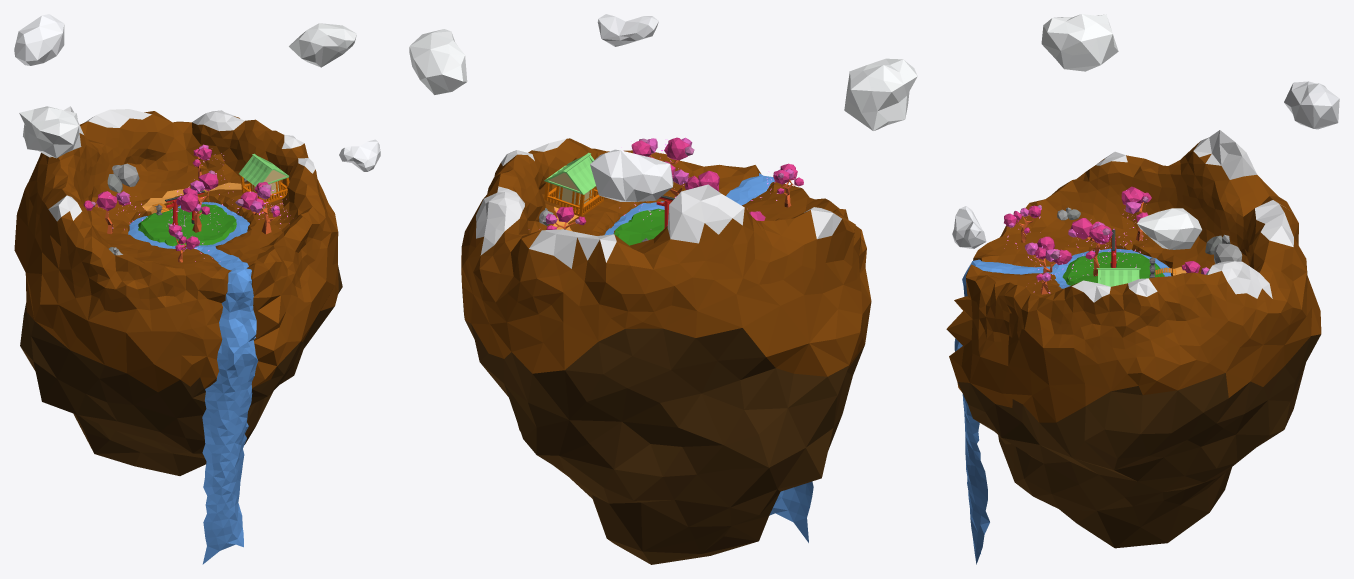
Rendered from island-transformed.glb.
3 views of the same model, side by side, from view 1: azimuth 30°, elevation 25°; view 2: azimuth 150°, elevation 25°; view 3: azimuth 270°, elevation 25° (orthographic). The views are drawn at different scales.
Visible parts, largest first — view 1: Casa_Tejado_0; view 2: Casa_Tejado_0; view 3: Casa_Tejado_0.
Part boxes in pixels (x1,y1,x2,y2): Casa_Tejado_0: [14, 14, 380, 564]; Casa_Tejado_0: [409, 14, 917, 564]; Casa_Tejado_0: [946, 14, 1339, 564].
Size of the model in its own units: 1406 by 1665 by 1225.
Materials: 2 (2 with a texture image).
